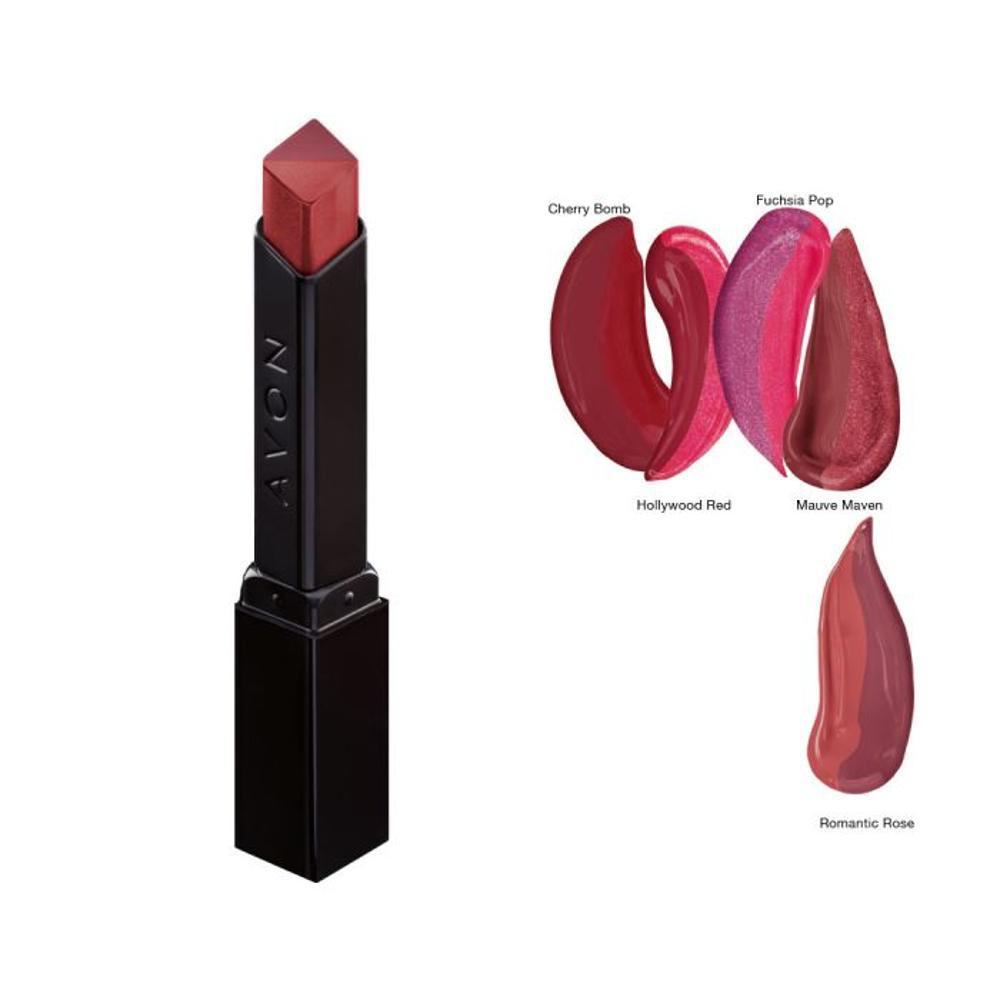lipstick: (188, 101, 472, 884)
